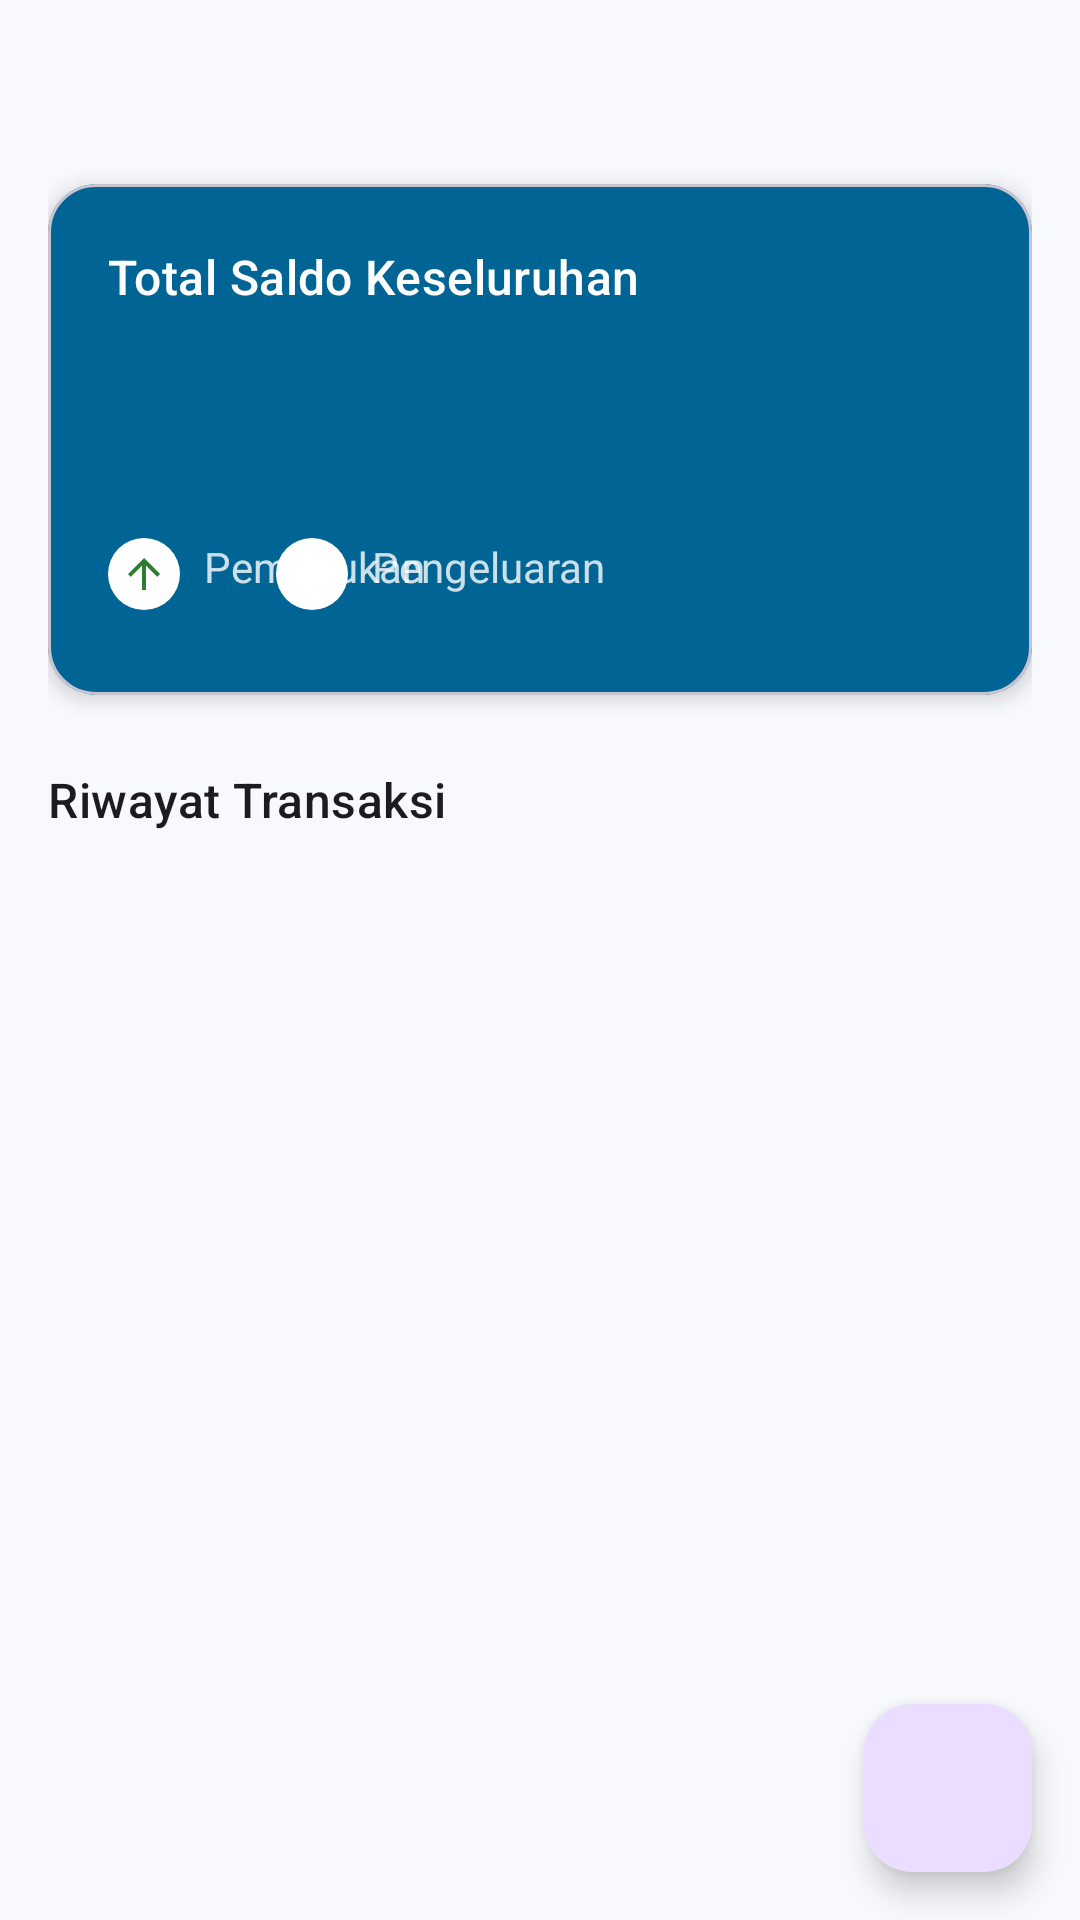

Icon click points for this 1080×1920 phone screenshot, format (x,y):
arrow upward: (144,574)
